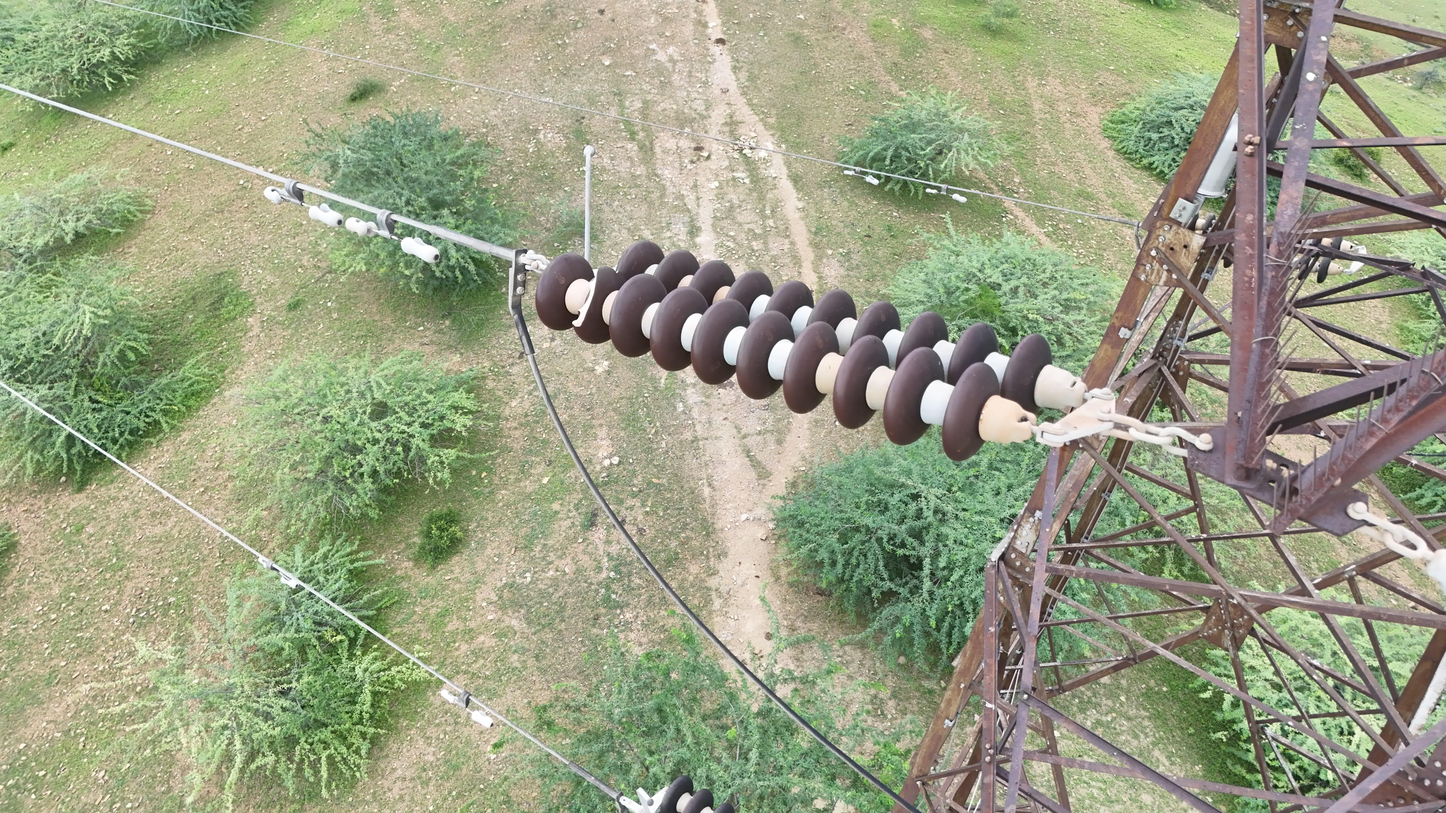broken_insulator: (571, 263, 623, 344)
